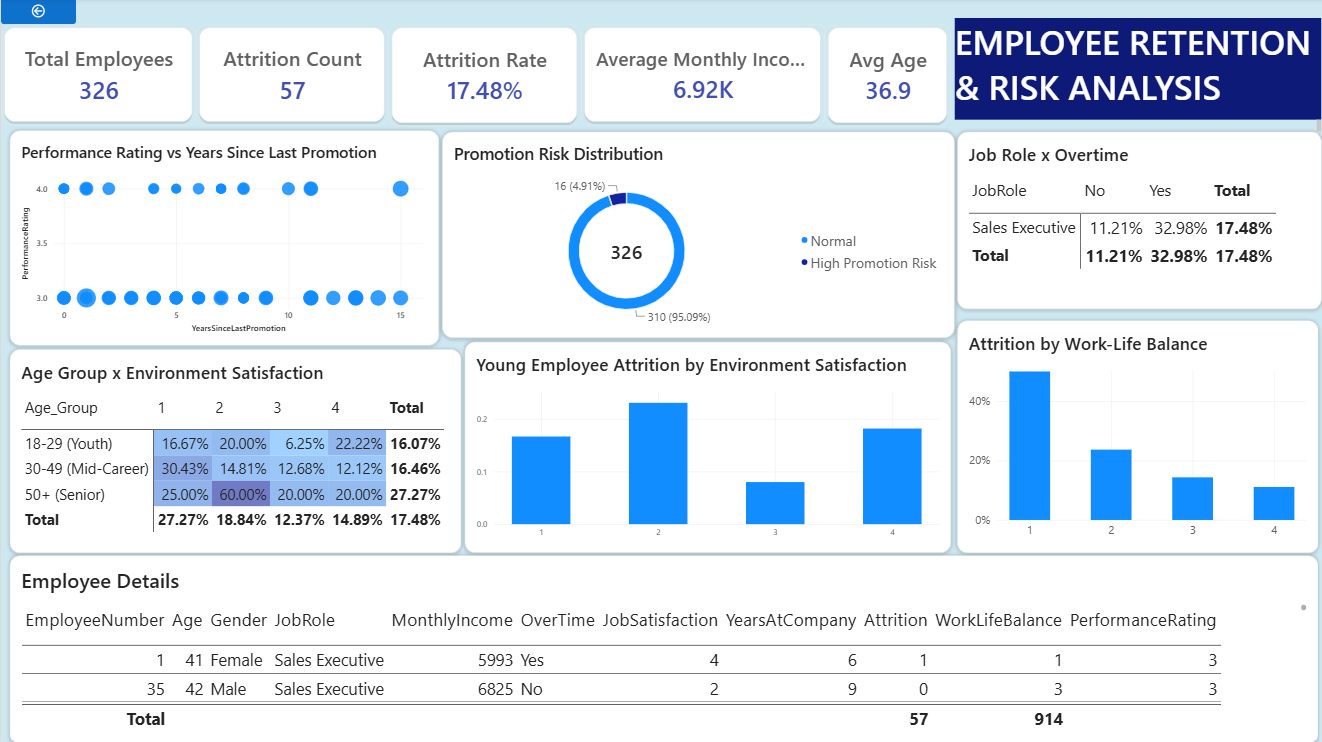

What the dashboard file says about the page in this screenshot:
{"tool":"powerbi","page":{"name":"Job Role Details","canvas":[1920,1080],"ordinal":1},"visuals":[{"type":"cardVisual","fields":{"Data":["cleaned_hr_analytics.Attrition_Count"]},"box":[282.3,38,278.7,146.6],"z":0},{"type":"cardVisual","fields":{"Data":["cleaned_hr_analytics.Attrition Rate"]},"box":[561,38,278.7,148.4],"z":1000},{"type":"cardVisual","fields":{"Data":["cleaned_hr_analytics.Average Monthly Income"]},"box":[839.7,38,352.9,146.6],"z":2000},{"type":"cardVisual","fields":{"Data":["cleaned_hr_analytics.Avg Age"]},"box":[1192.6,38,182.8,148.4],"z":3000},{"type":"actionButton","box":[0,0,108.6,38],"z":4000},{"type":"scatterChart","title":"Performance Rating vs Years Since Last Promotion","fields":{"X":["Avg(cleaned_hr_analytics.YearsSinceLastPromotion)"],"Y":["Avg(cleaned_hr_analytics.PerformanceRating)"],"Size":["Sum(cleaned_hr_analytics.YearsAtCompany)"],"Category":["cleaned_hr_analytics.EmployeeNumber"]},"box":[12.7,191.8,621.6,310.8],"z":5000},{"type":"pivotTable","title":"Job Role x Overtime","fields":{"Rows":["cleaned_hr_analytics.JobRole"],"Columns":["cleaned_hr_analytics.OverTime"],"Values":["cleaned_hr_analytics.Attrition Rate"]},"box":[1384.4,193.6,528.4,257],"z":6000},{"type":"pivotTable","title":"Age Group x Environment Satisfaction","fields":{"Rows":["cleaned_hr_analytics.Age_Group"],"Columns":["cleaned_hr_analytics.EnvironmentSatisfaction"],"Values":["cleaned_hr_analytics.Attrition Rate"]},"box":[12.7,508.5,653.3,295],"z":7000},{"type":"clusteredColumnChart","title":"Young Employee Attrition by Environment Satisfaction ","fields":{"Category":["cleaned_hr_analytics.EnvironmentSatisfaction"],"Y":["cleaned_hr_analytics.Young Employee Attrition"]},"box":[671.4,497.7,704,305.8],"z":8000},{"type":"clusteredColumnChart","title":"Attrition by Work-Life Balance","fields":{"Category":["cleaned_hr_analytics.WorkLifeBalance"],"Y":["cleaned_hr_analytics.Attrition Rate"]},"box":[1384.4,466.9,523,336.6],"z":9000},{"type":"tableEx","title":"Employee Details","fields":{"Values":["cleaned_hr_analytics.EmployeeNumber","cleaned_hr_analytics.Age","cleaned_hr_analytics.Gender","cleaned_hr_analytics.JobRole","cleaned_hr_analytics.MonthlyIncome","cleaned_hr_analytics.OverTime","cleaned_hr_analytics.JobSatisfaction","cleaned_hr_analytics.YearsAtCompany","Sum(cleaned_hr_analytics.Attrition)","Sum(cleaned_hr_analytics.WorkLifeBalance)","cleaned_hr_analytics.PerformanceRating"]},"box":[12.7,807.1,1894.7,273.3],"z":10000},{"type":"textbox","title":"EMPLOYEE RETENTION & RISK ANALYSIS","box":[1380.2,29.6,532,164.7],"z":11000},{"type":"donutChart","title":"Promotion Risk Distribution","fields":{"Category":["cleaned_hr_analytics.Promotion Risk"],"Y":["CountNonNull(cleaned_hr_analytics.EmployeeNumber)"]},"box":[638.8,193.6,742,298.6],"z":12000},{"type":"cardVisual","fields":{"Data":["cleaned_hr_analytics.Total Employees"]},"box":[0,38,282.3,146.6],"z":13000}]}

Visuals, with their boxes on the page's 1920x1080 design canvas (x1, y1, x2, y2). These are canvas units, not pixel positions in the 1322x742 screenshot, which may show the page scaled, cropped or inside an application window:
cardVisual - cleaned_hr_analytics.Attrition_Count: BBox(282, 38, 561, 185)
cardVisual - cleaned_hr_analytics.Attrition Rate: BBox(561, 38, 840, 186)
cardVisual - cleaned_hr_analytics.Average Monthly Income: BBox(840, 38, 1193, 185)
cardVisual - cleaned_hr_analytics.Avg Age: BBox(1193, 38, 1375, 186)
actionButton: BBox(0, 0, 109, 38)
"Performance Rating vs Years Since Last Promotion" scatterChart: BBox(13, 192, 634, 503)
"Job Role x Overtime" pivotTable: BBox(1384, 194, 1913, 451)
"Age Group x Environment Satisfaction" pivotTable: BBox(13, 508, 666, 804)
"Young Employee Attrition by Environment Satisfaction " clusteredColumnChart: BBox(671, 498, 1375, 804)
"Attrition by Work-Life Balance" clusteredColumnChart: BBox(1384, 467, 1907, 804)
"Employee Details" tableEx: BBox(13, 807, 1907, 1080)
"EMPLOYEE RETENTION & RISK ANALYSIS" textbox: BBox(1380, 30, 1912, 194)
"Promotion Risk Distribution" donutChart: BBox(639, 194, 1381, 492)
cardVisual - cleaned_hr_analytics.Total Employees: BBox(0, 38, 282, 185)
